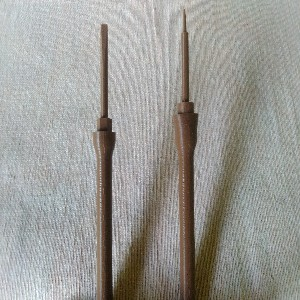obeng: (92, 23, 116, 300)
solder: (171, 8, 200, 300)
